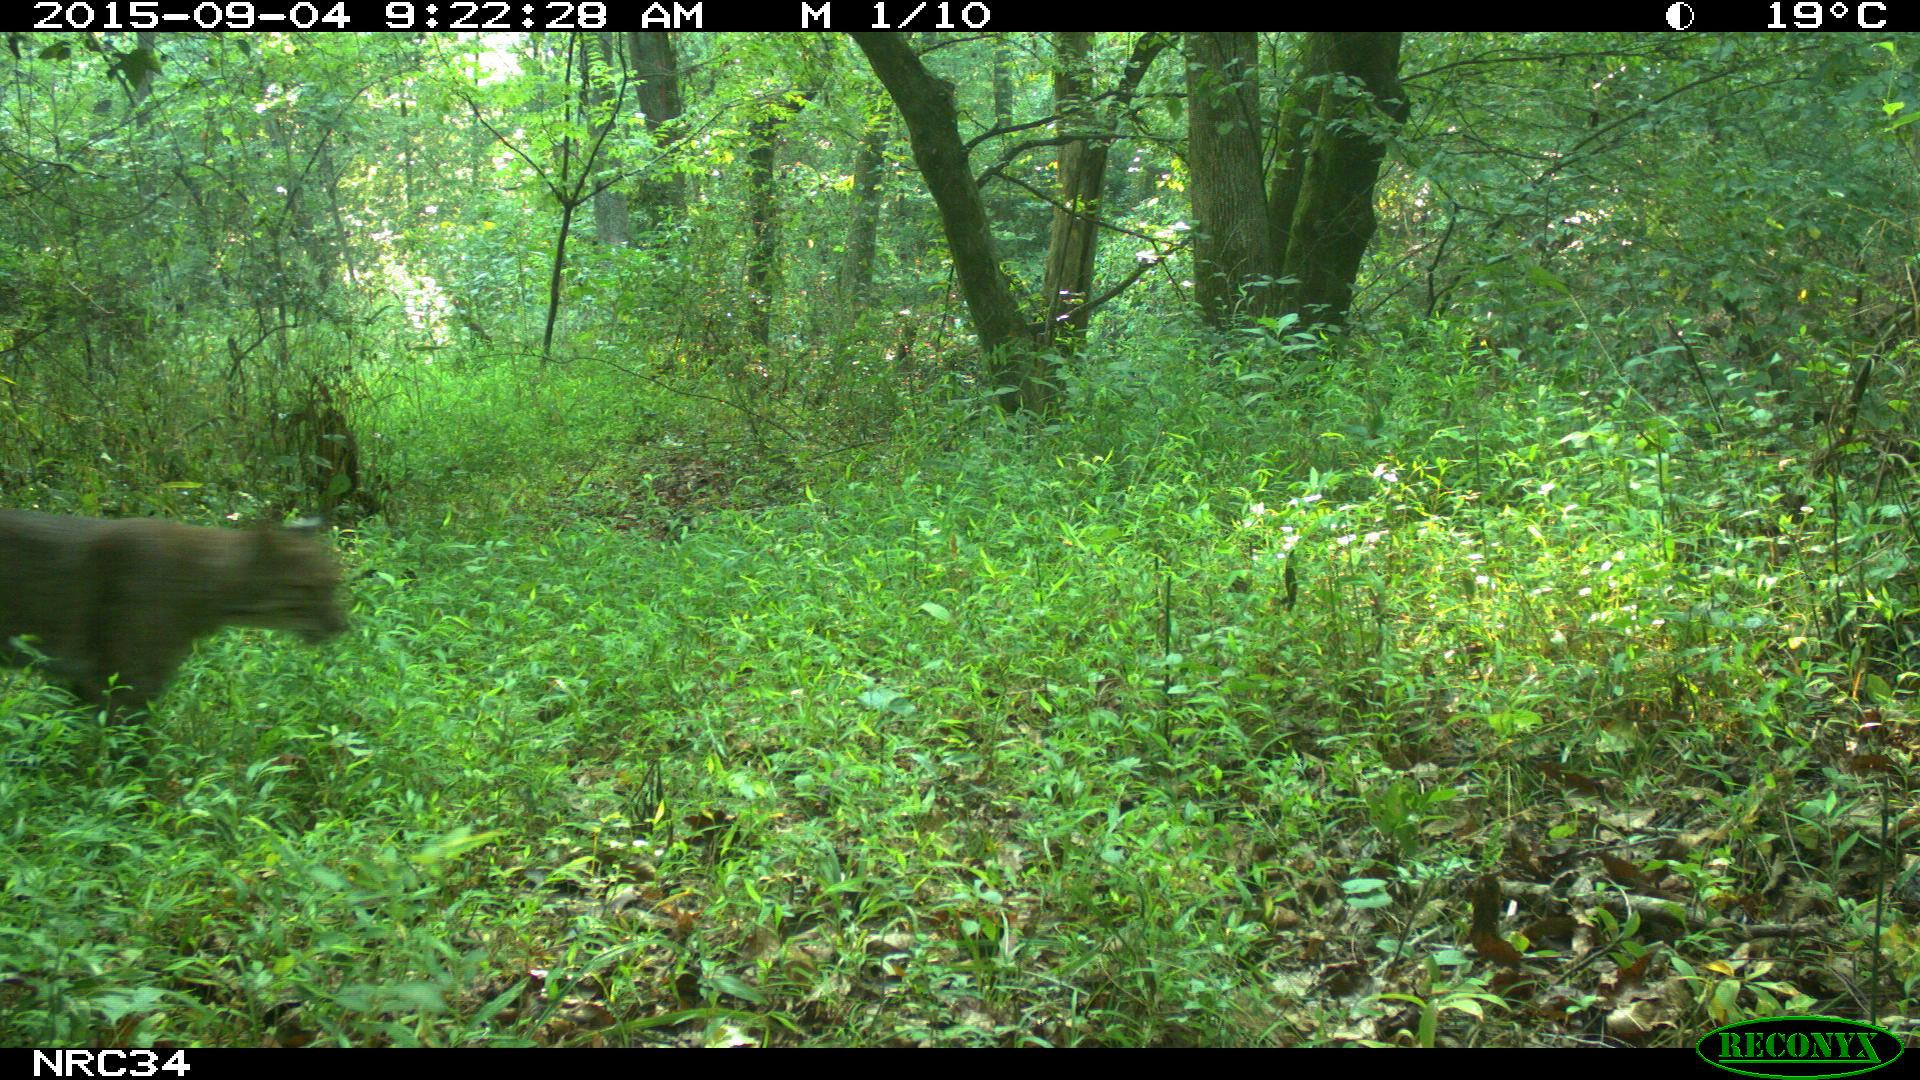Animal: (1, 508, 352, 724)
